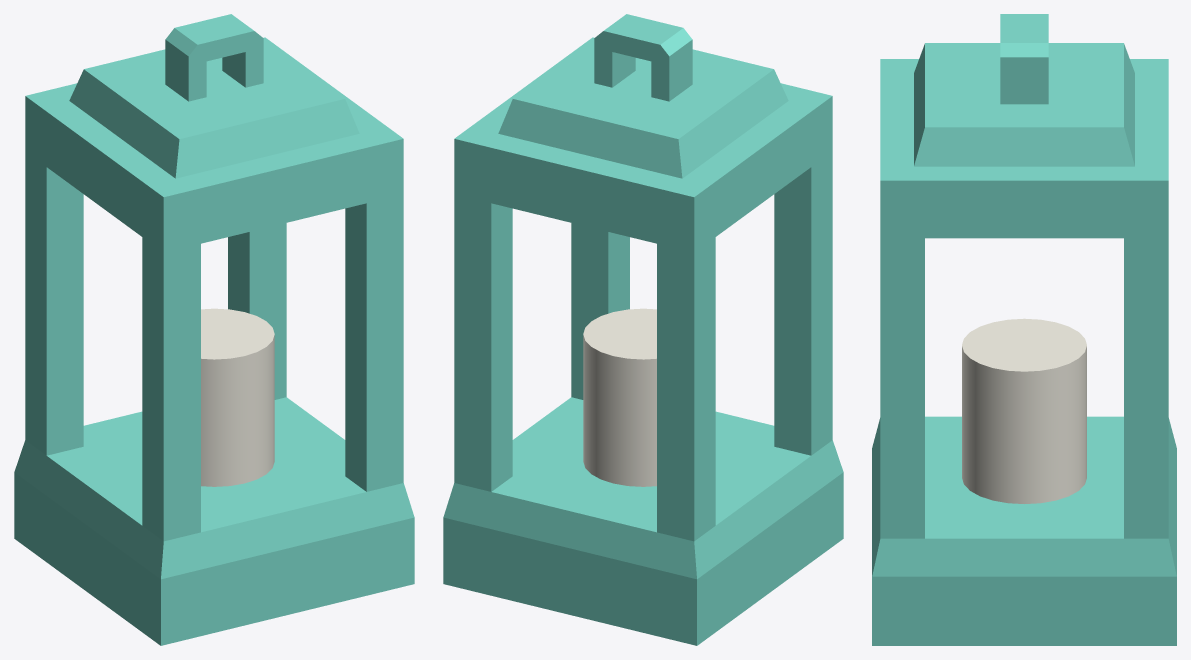
File: lanterncandle.glb
The picture shows the model from 3 angles, left to right: view 1: azimuth 30°, elevation 25°; view 2: azimuth 150°, elevation 25°; view 3: azimuth 270°, elevation 25°; orthographic projection. The views are drawn at different scales.
Visible parts, largest first — view 1: lanternCandle; view 2: lanternCandle; view 3: lanternCandle.
Boxes of the visible parts, <box> form: lanternCandle: <box>14,14,414,645</box>; lanternCandle: <box>443,14,843,645</box>; lanternCandle: <box>872,14,1176,645</box>.
Bounding box in the file's own units: 0.1459 × 0.2923 × 0.1459.
